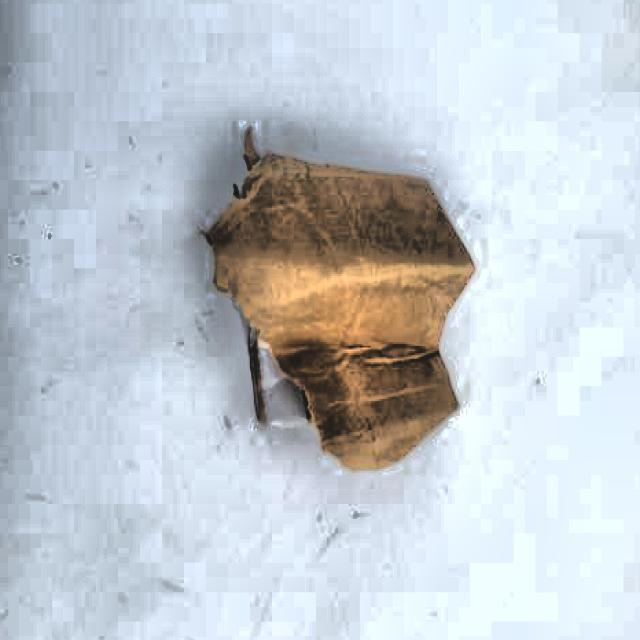cardboard: (203, 132, 477, 474)
